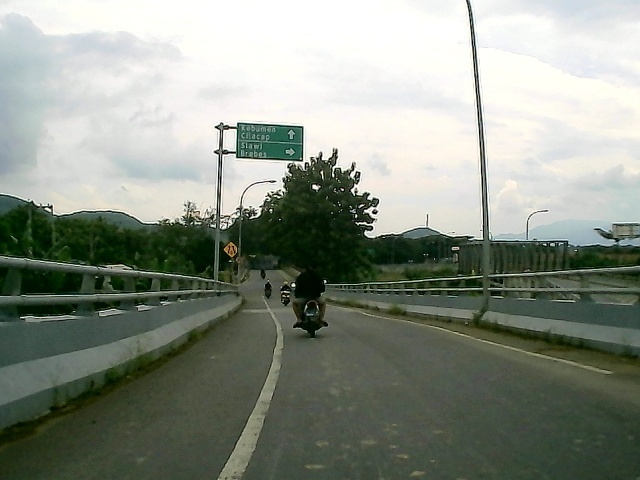Akhir bangunan pemisah satu arah: (223, 239, 241, 261)
